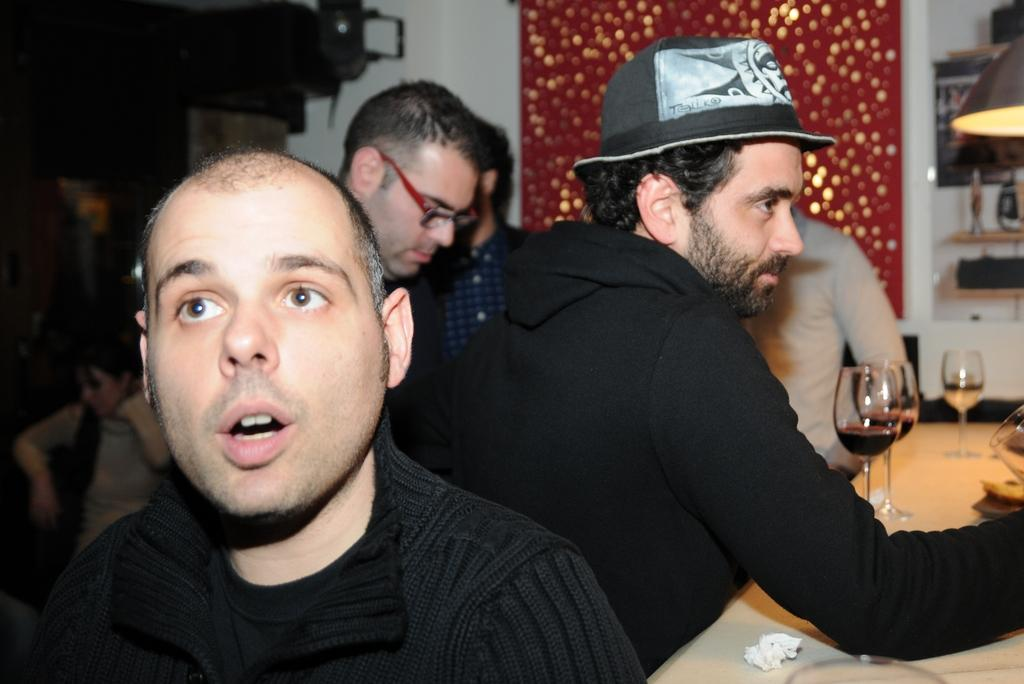Hat: (568, 36, 834, 182)
